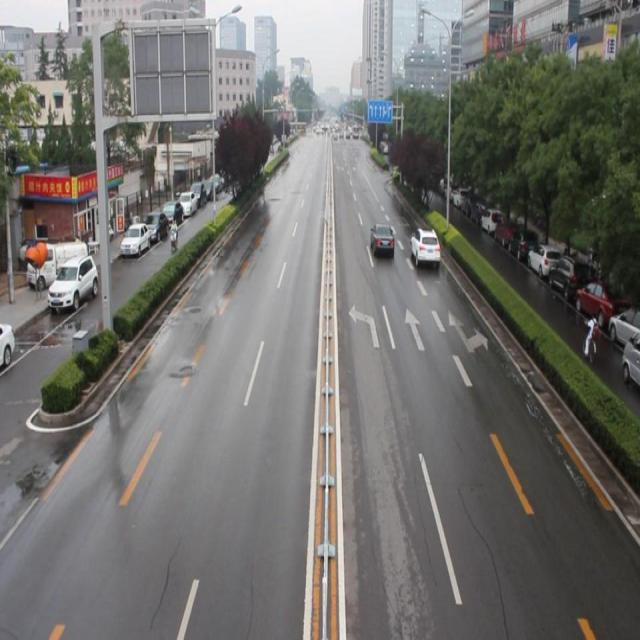car: (409, 226, 440, 267), (369, 224, 394, 255)
